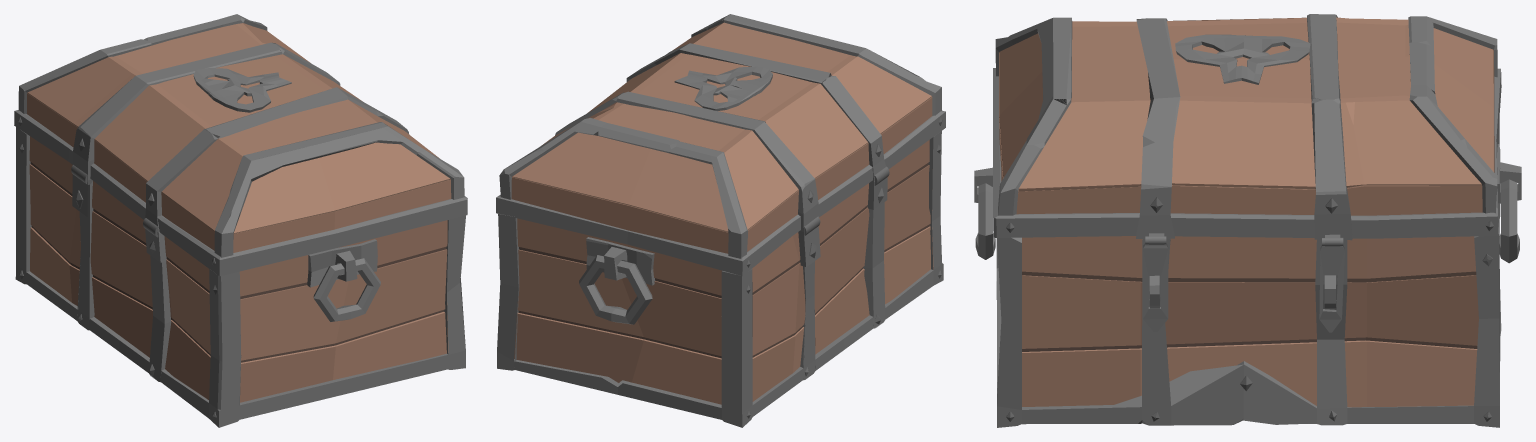
Rendered from chest.glb.
3 views of the same model, side by side, from view 1: azimuth 30°, elevation 25°; view 2: azimuth 150°, elevation 25°; view 3: azimuth 270°, elevation 25° (orthographic). The views are drawn at different scales.
Visible parts, largest first — view 1: chest.003, chest.002; view 2: chest.003, chest.002; view 3: chest.003, chest.002.
Boxes of the visible parts, x1,y1,x2,y2 form: chest.003: [14, 14, 467, 276]; chest.002: [15, 127, 465, 427]; chest.003: [496, 14, 945, 276]; chest.002: [497, 131, 943, 427]; chest.003: [993, 14, 1501, 332]; chest.002: [974, 118, 1521, 427].
Size of the model in its own units: 0.4994 by 0.4316 by 0.7131.
